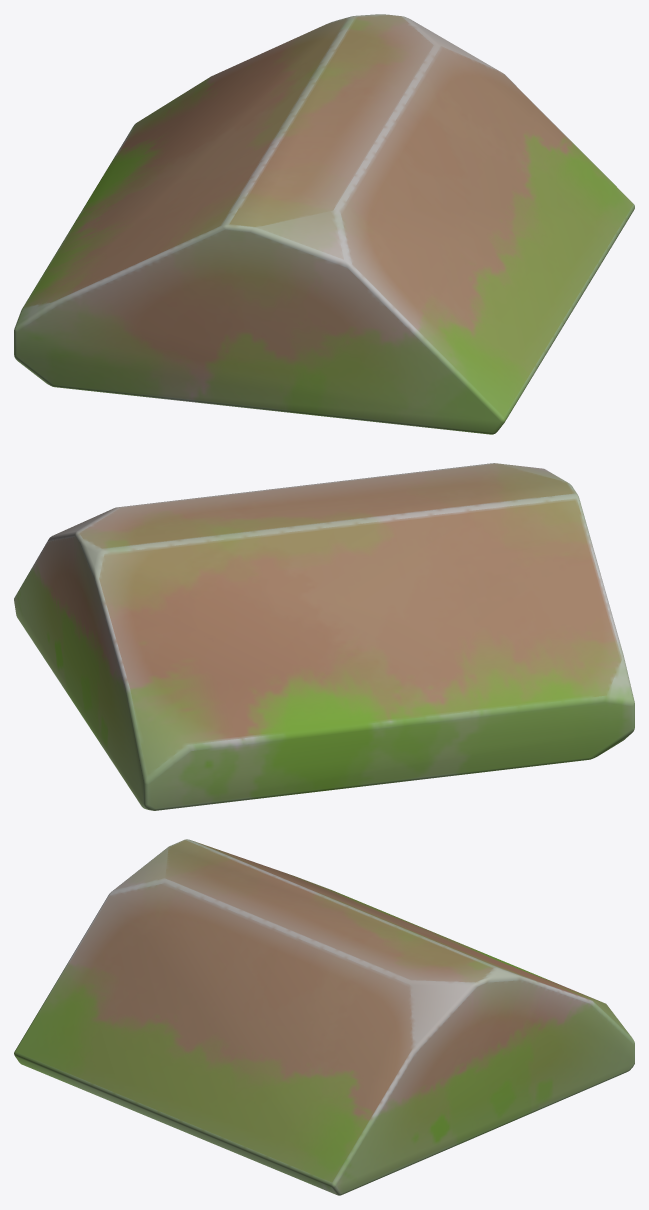
The model's file is Rock Type 4_3.fbx.
3 views of the same model, one above another, from view 1: azimuth 30°, elevation 25°; view 2: azimuth 150°, elevation 25°; view 3: azimuth 270°, elevation 25° (orthographic). The views are drawn at different scales.
Visible parts, largest first — view 1: Cube.105; view 2: Cube.105; view 3: Cube.105.
Boxes of the visible parts, left/top/right/bottom form: Cube.105: left=14, top=14, right=634, bottom=434; Cube.105: left=14, top=463, right=634, bottom=810; Cube.105: left=14, top=839, right=634, bottom=1195.
Size of the model in its own units: 594 by 163 by 594.
